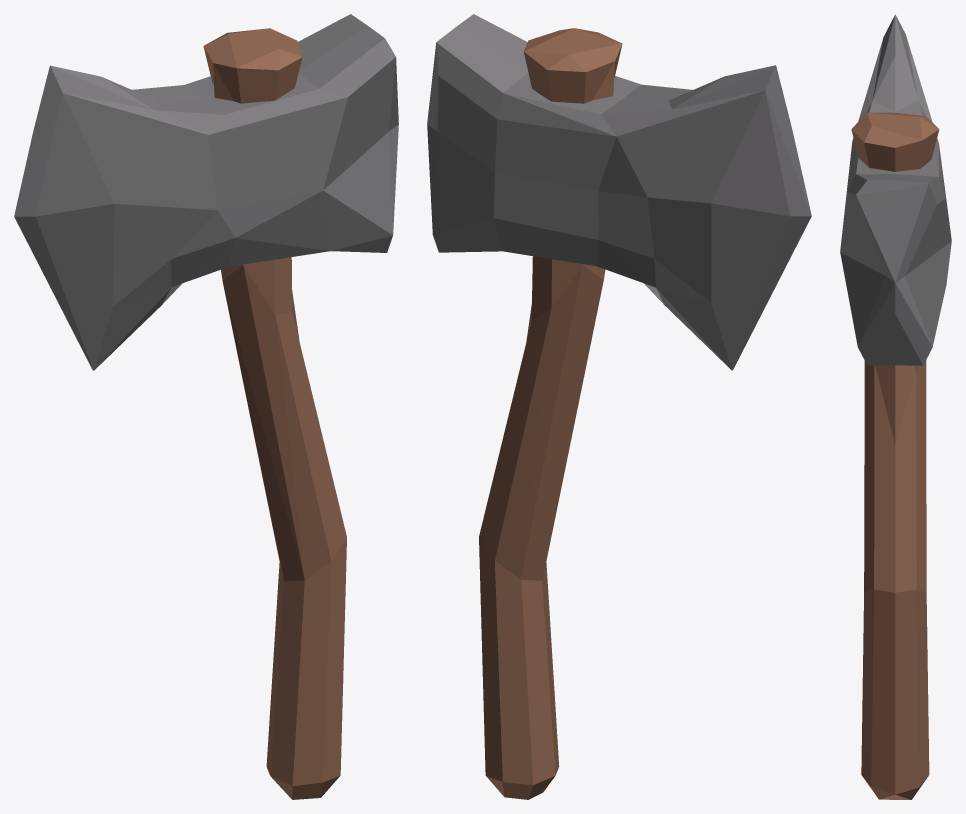
File: axe.fbx
3 views of the same model, side by side, from view 1: azimuth 30°, elevation 25°; view 2: azimuth 150°, elevation 25°; view 3: azimuth 270°, elevation 25° (orthographic). The views are drawn at different scales.
Visible parts, largest first — view 1: Cube.001; view 2: Cube.001; view 3: Cube.001.
Boxes of the visible parts, bbox=[...] form: Cube.001: bbox=[14, 14, 398, 799]; Cube.001: bbox=[427, 14, 811, 799]; Cube.001: bbox=[840, 14, 951, 799].
Size of the model in its own units: 24.06 by 47.14 by 7.06.
